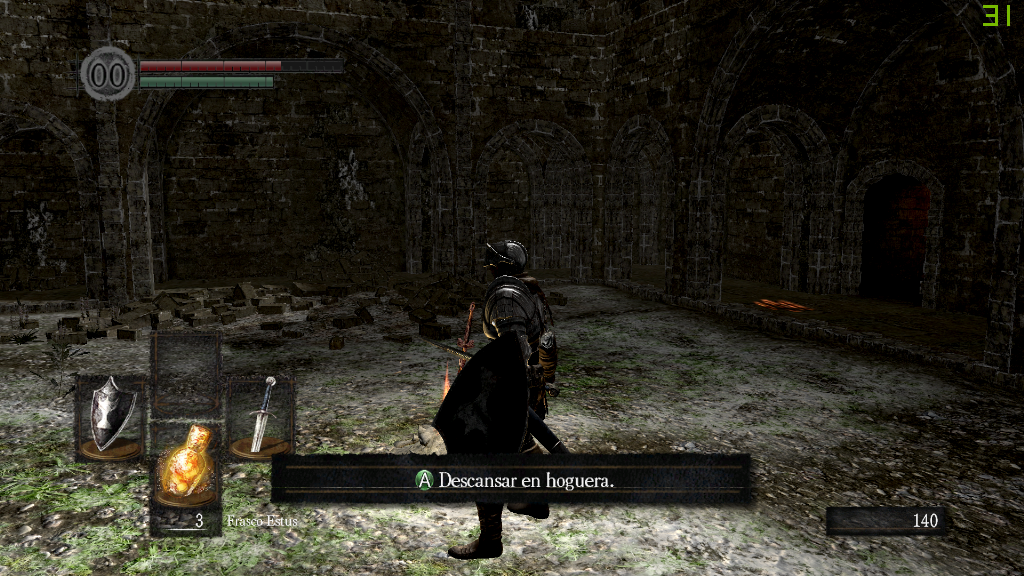bonfire: (420, 300, 487, 453)
dialogBox: (271, 453, 754, 507)
health: (138, 58, 343, 71)
humanity: (80, 45, 136, 102)
player: (427, 237, 578, 561)
souls: (825, 506, 945, 536)
stamina: (138, 74, 274, 88)
